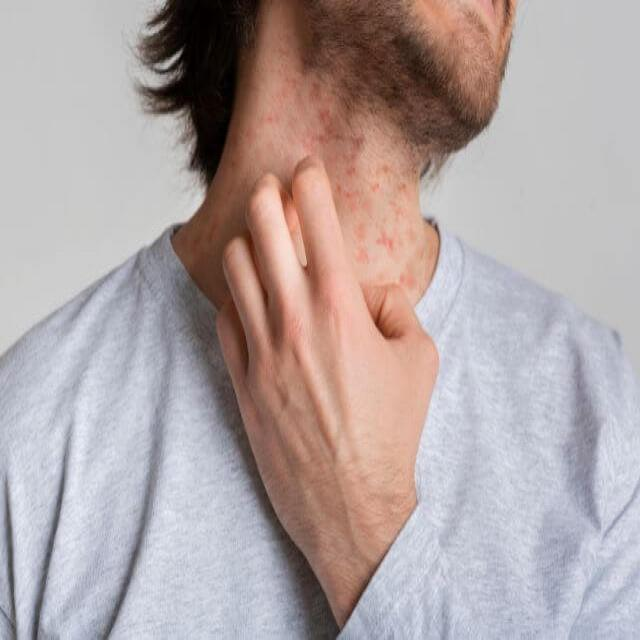hives: (181, 29, 437, 302)
